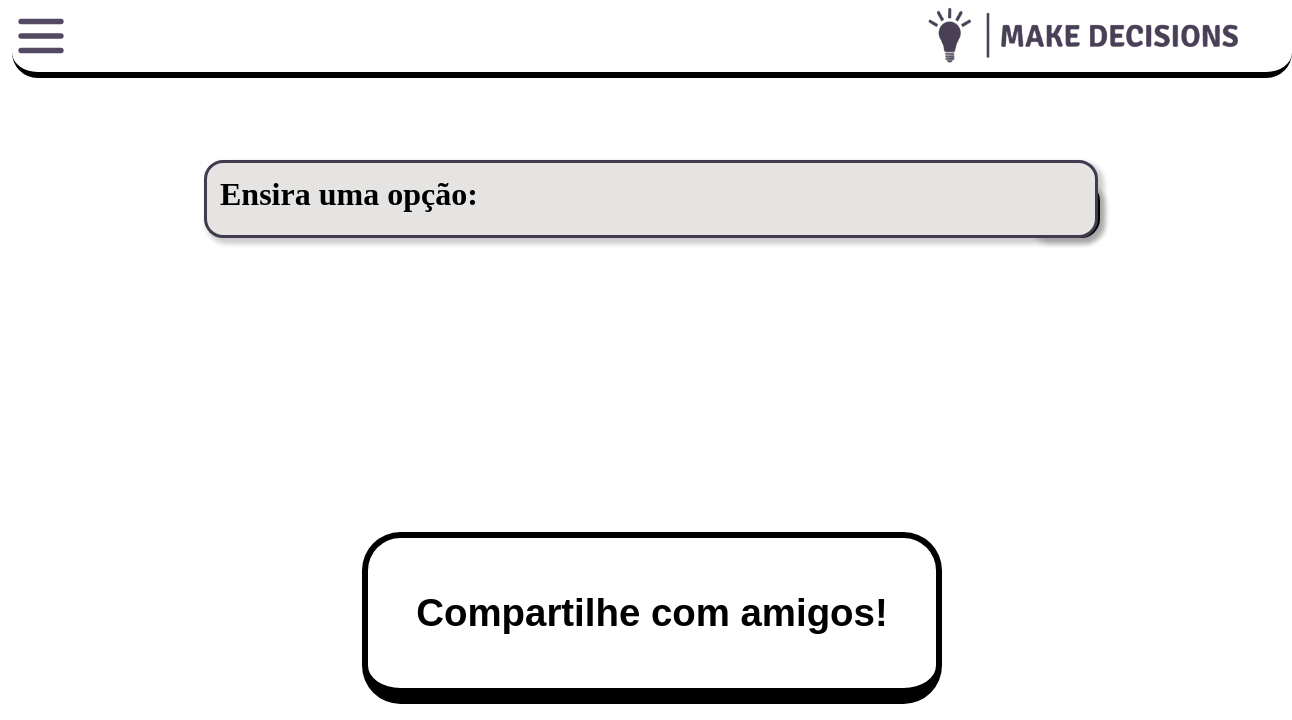
Test: Todo page › should get a validation min length error
The image size is (1292, 720).
Type "test" into the field labelled "Ensira uma opção:" at (651, 199), box [204,160,1098,238]
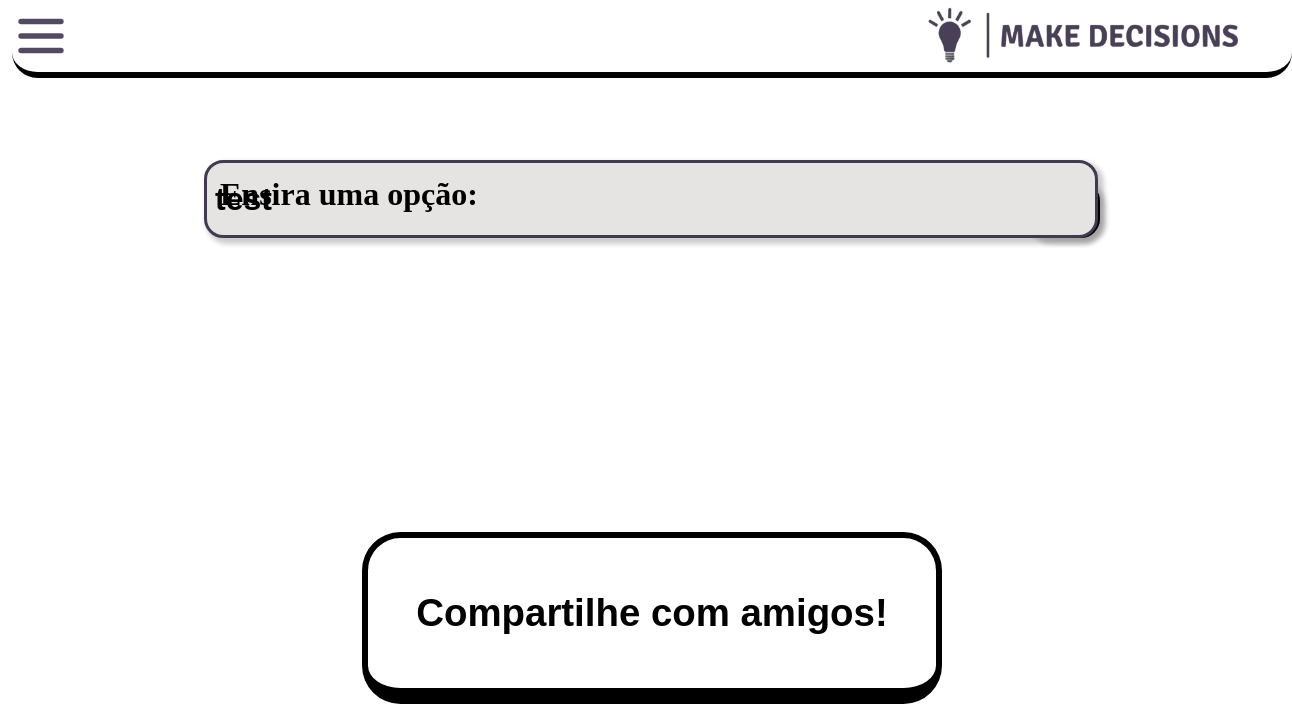
Submit the form with test id "submit", box [204,160,1100,238]
(page scrolled)
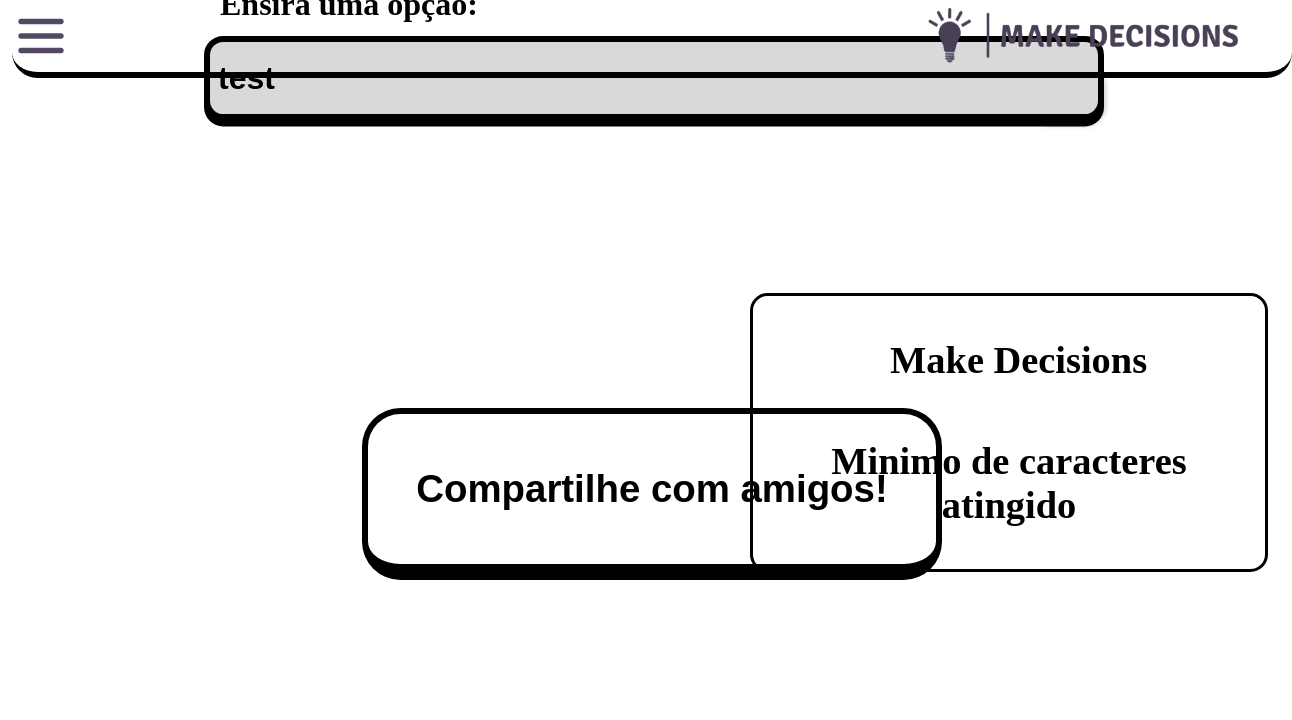
Check: the heading "Minimo de caracteres atingido" is shown, box [831,440,1187,526]
